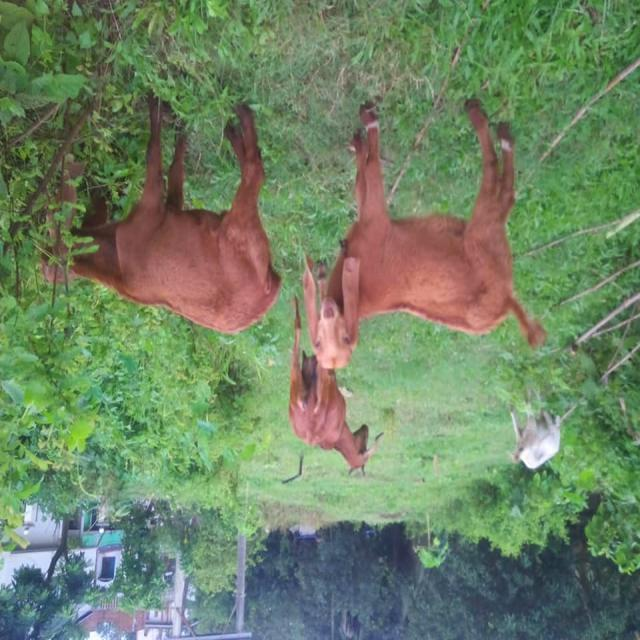Goat: (303, 98, 547, 372), (39, 90, 282, 336), (287, 257, 383, 478), (509, 388, 561, 471)
